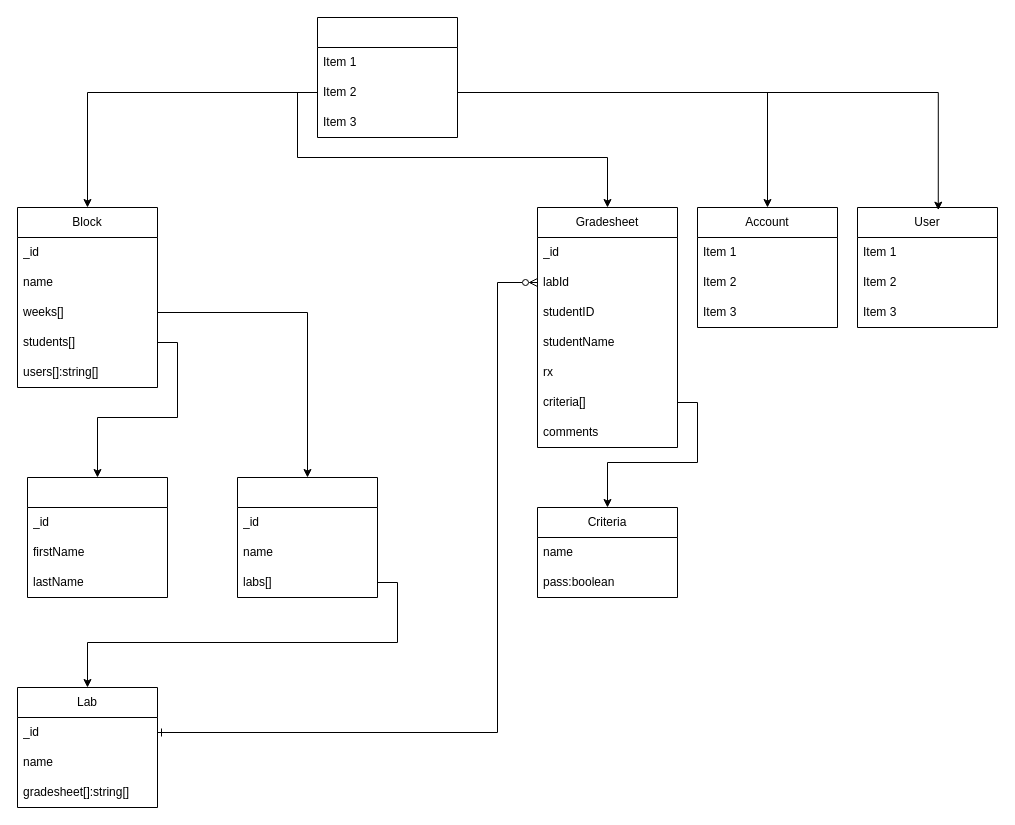
The diagram is 1015 pixels wide and 825 high, and some of its shapes have lost their labels. The box of each missing label's shape, as (x1, y1, x2, y2) in pixels:
DB: (316, 16, 458, 138)
Student: (26, 476, 168, 598)
Week: (236, 476, 378, 598)
